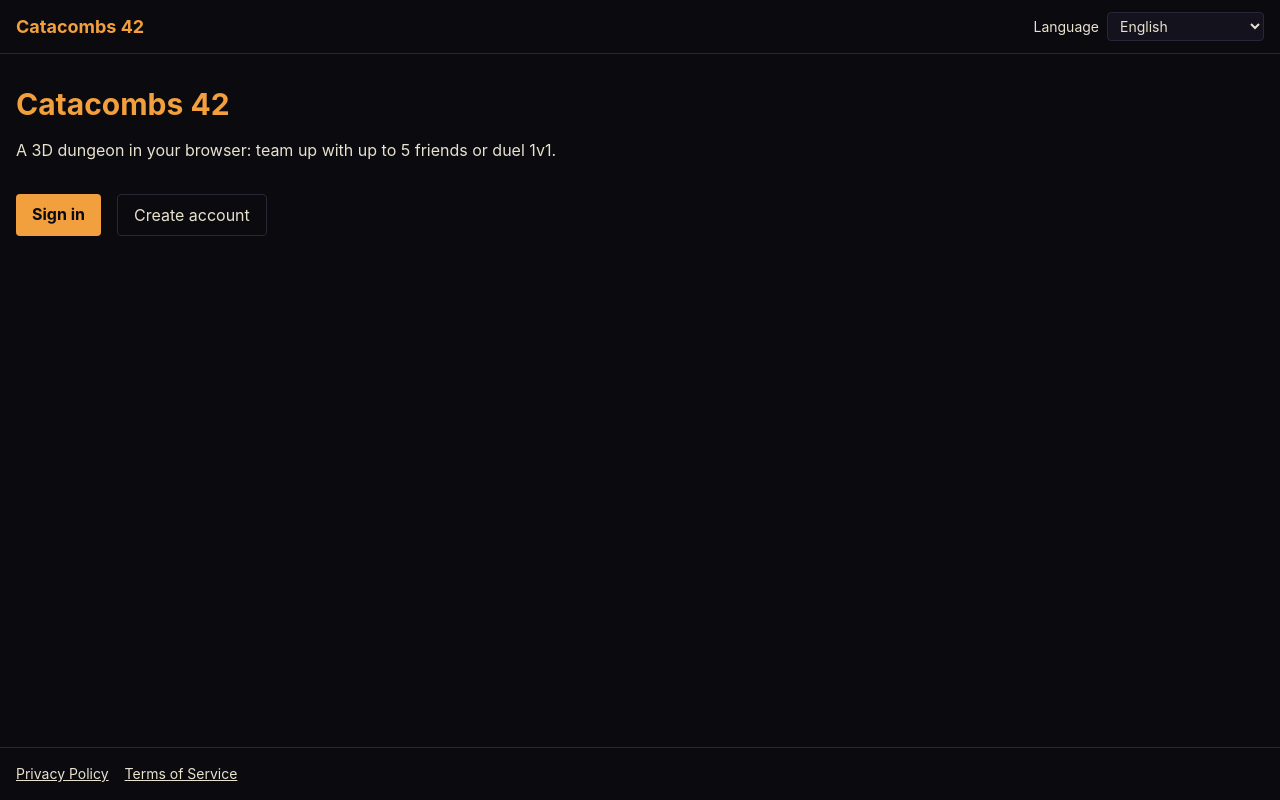
Home › o link "Sign in" leva à tela de entrada
The width and height of the screenshot is (1280, 800).
Click the link "Sign in": [58, 215] box x1=16 y1=194 x2=101 y2=236
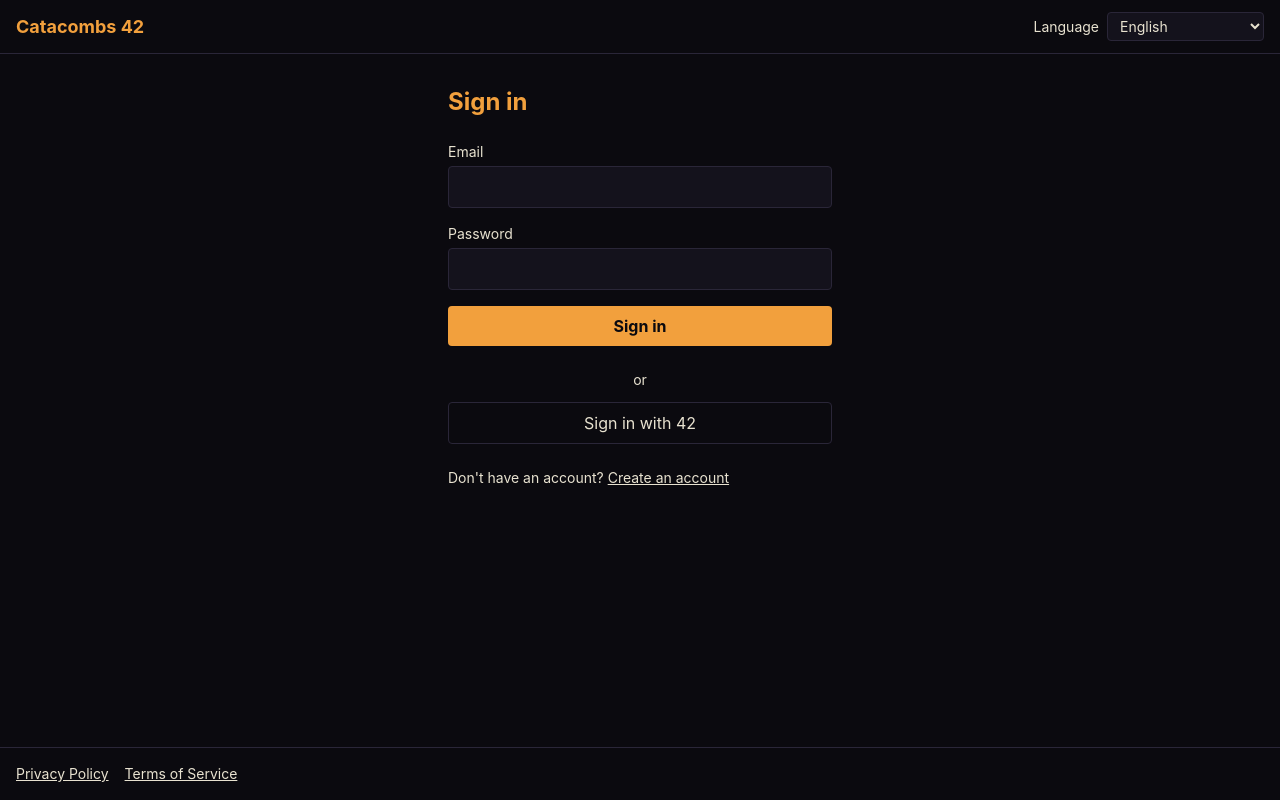
Expected: the heading "Sign in" is shown, x1=448 y1=87 x2=528 y2=116
